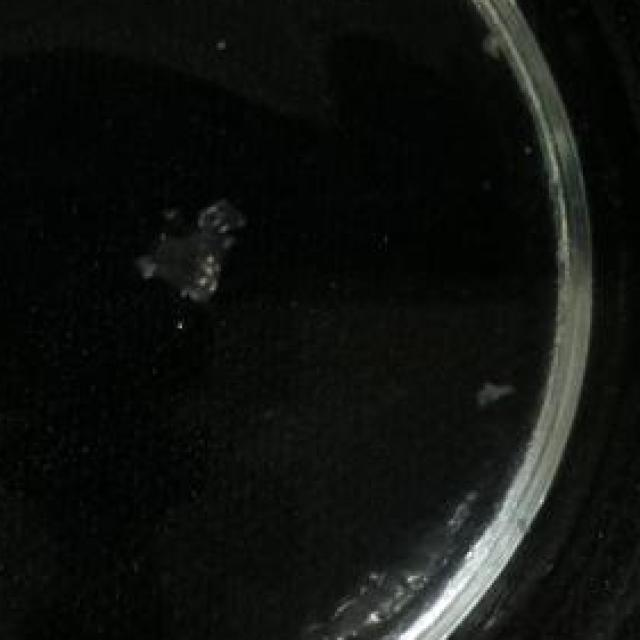Microplastic: (136, 185, 252, 324), (465, 364, 533, 428)
